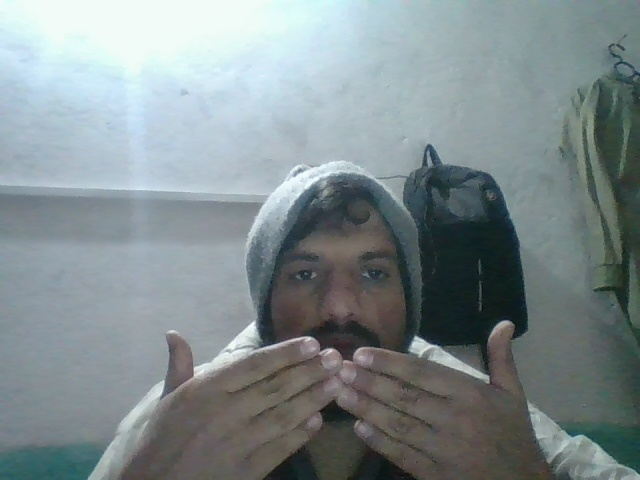ThankYou: (110, 318, 553, 478)
